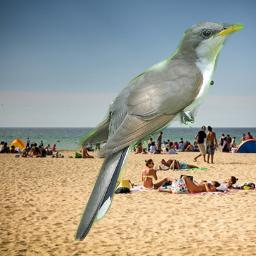Cuckoo: (74, 22, 243, 241)
